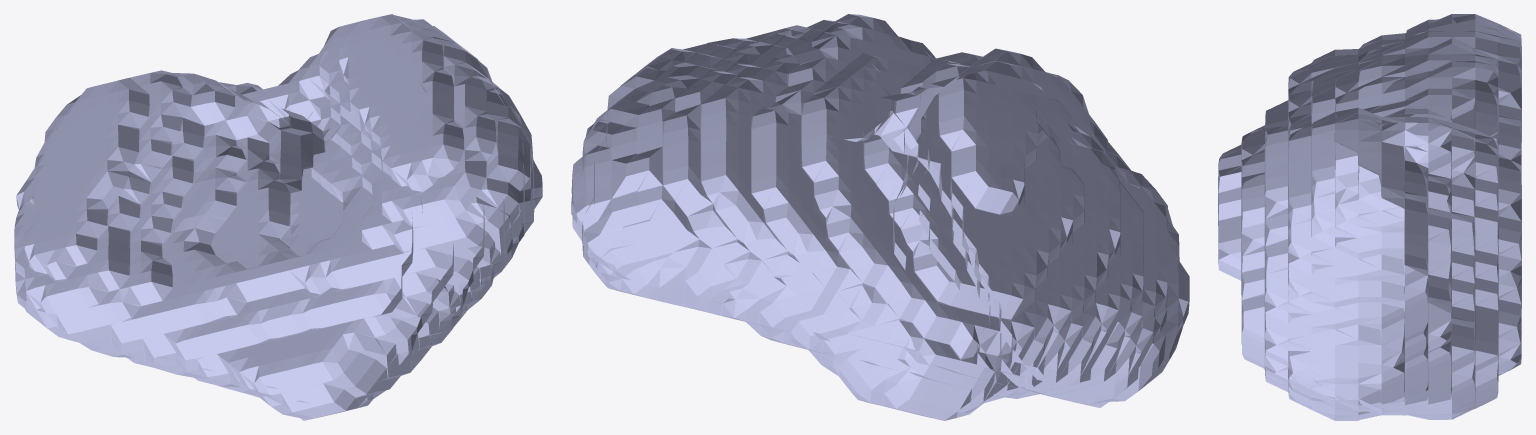
File: VFB_00102134.glb
The picture shows the model from 3 angles, left to right: view 1: azimuth 30°, elevation 25°; view 2: azimuth 150°, elevation 25°; view 3: azimuth 270°, elevation 25°; orthographic projection. The views are drawn at different scales.
Parts seen in each view (by area): view 1: VFB_00102134; view 2: VFB_00102134; view 3: VFB_00102134.
Part boxes in pixels (bbox=[...]): VFB_00102134: bbox=[14, 14, 542, 420]; VFB_00102134: bbox=[571, 14, 1189, 420]; VFB_00102134: bbox=[1218, 14, 1521, 420].
Size of the model in its own units: 0.0997 by 0.0603 by 0.0511.
